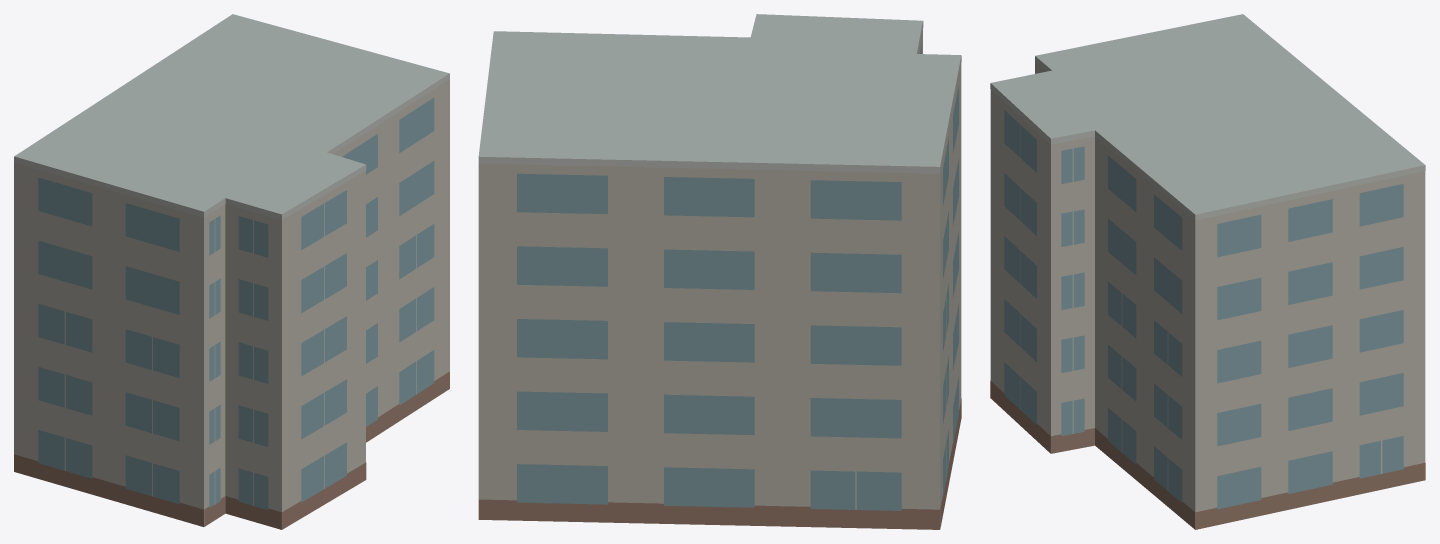
Rendered from survey-upis-32626960.glb.
3 views of the same model, side by side, from view 1: azimuth 30°, elevation 25°; view 2: azimuth 150°, elevation 25°; view 3: azimuth 270°, elevation 25° (orthographic). The views are drawn at different scales.
Visible parts, largest first — view 1: survey-upis-32626960.tmp; view 2: survey-upis-32626960.tmp; view 3: survey-upis-32626960.tmp.
Part boxes in pixels (x1,y1,x2,y2): survey-upis-32626960.tmp: [14, 14, 449, 529]; survey-upis-32626960.tmp: [478, 14, 961, 529]; survey-upis-32626960.tmp: [990, 14, 1425, 529].
Size of the model in its own units: 17.91 by 13.1 by 16.4.
